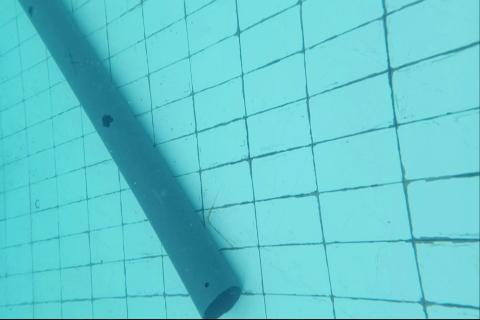kebocoran: (101, 114, 113, 129), (28, 6, 33, 18), (204, 281, 209, 288)
keretakan: (67, 50, 80, 77)
